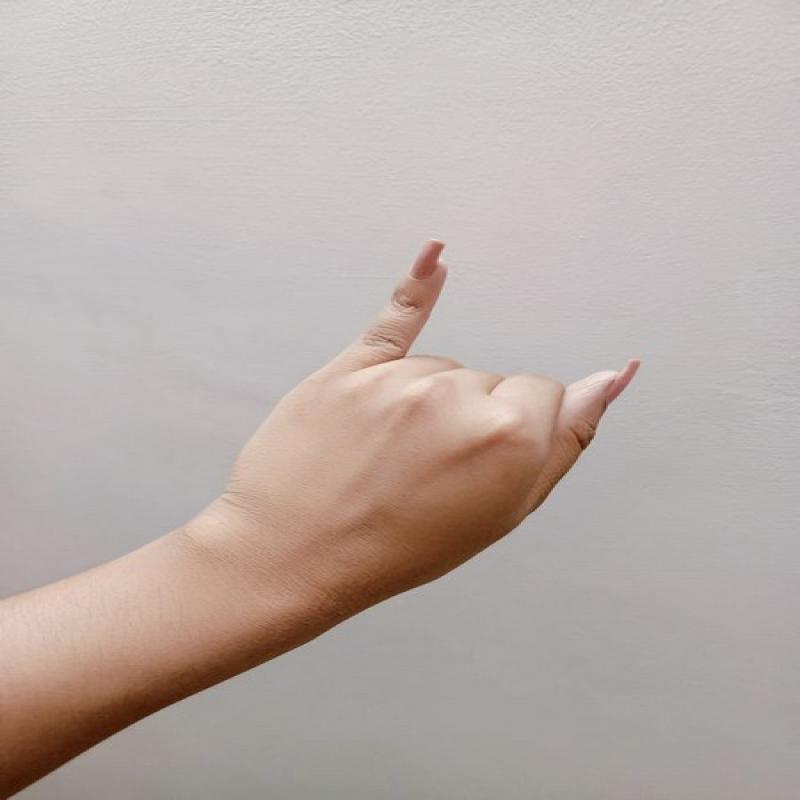Kartharee Mukham: (207, 225, 652, 597)
